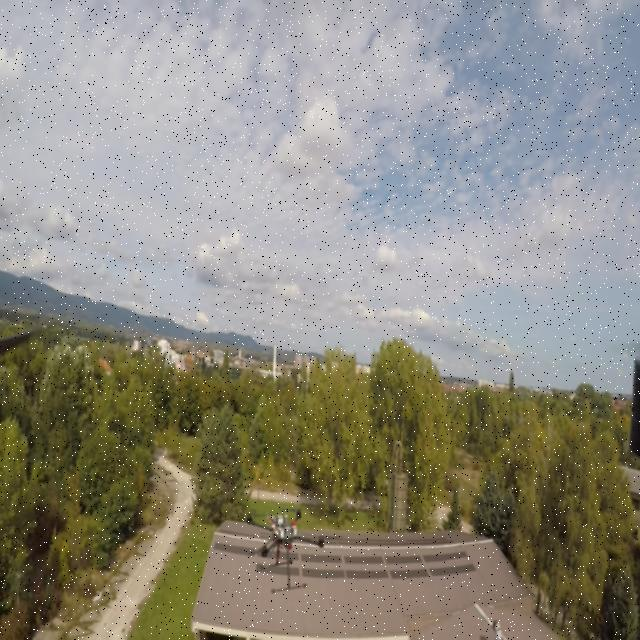UAV: (235, 506, 328, 594)
